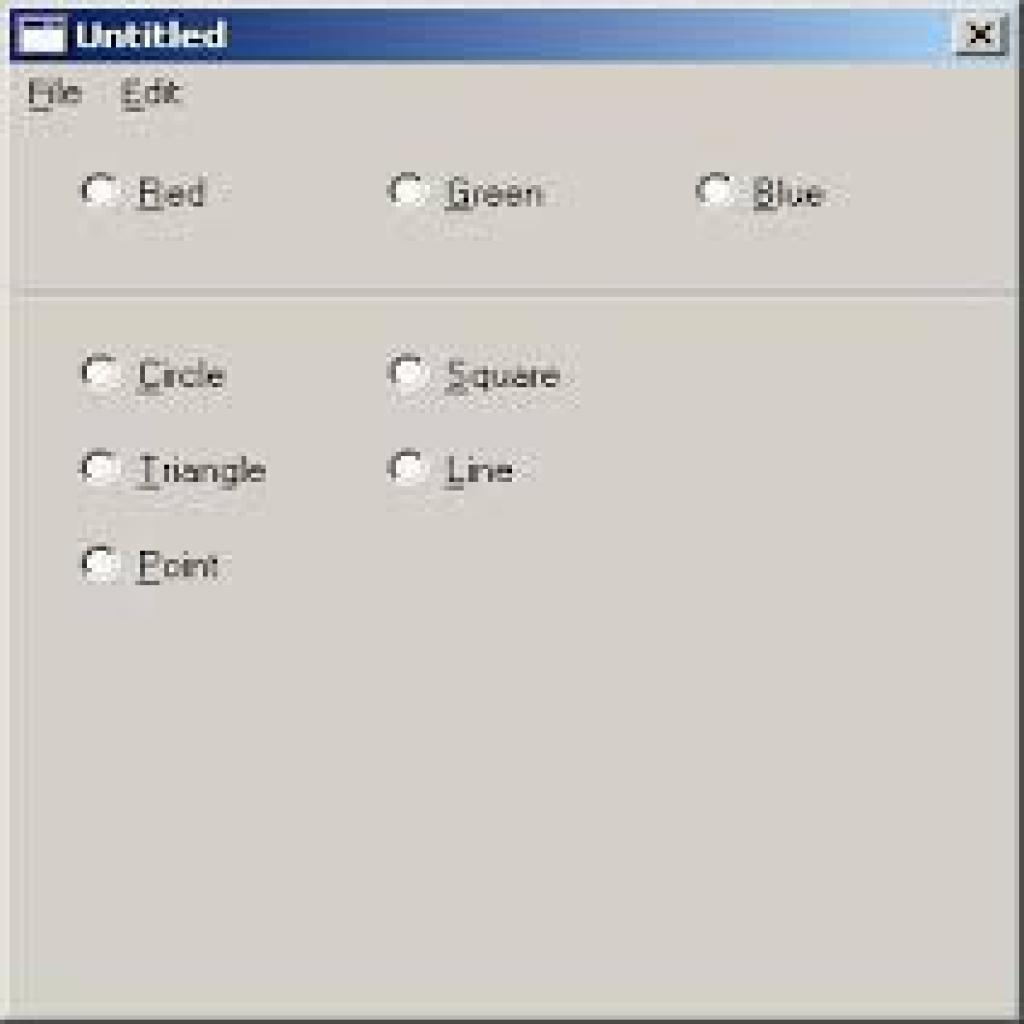radio: (388, 165, 436, 219), (383, 350, 434, 393), (697, 167, 743, 213), (80, 349, 124, 394), (385, 451, 432, 493), (79, 450, 125, 492), (78, 172, 122, 212), (77, 543, 123, 580)
